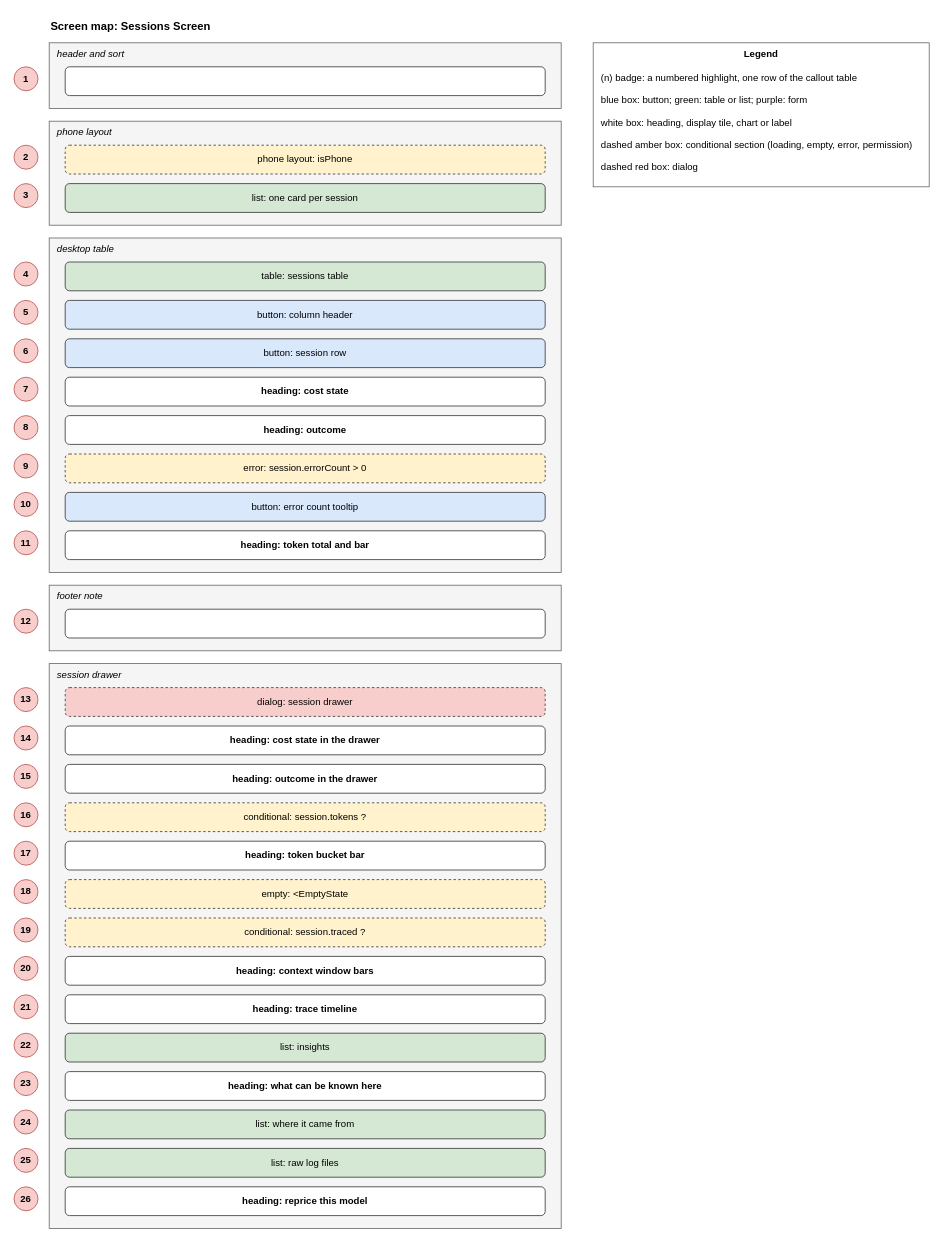
Image size: 943x1242. Some labels were removed from this diagram. The shapes that lost their labels are listed below. From the top down, each one's centre as x and y in pixels, then its label:
the point at 304,81: field: sort menu
the point at 304,623: heading: footer note
